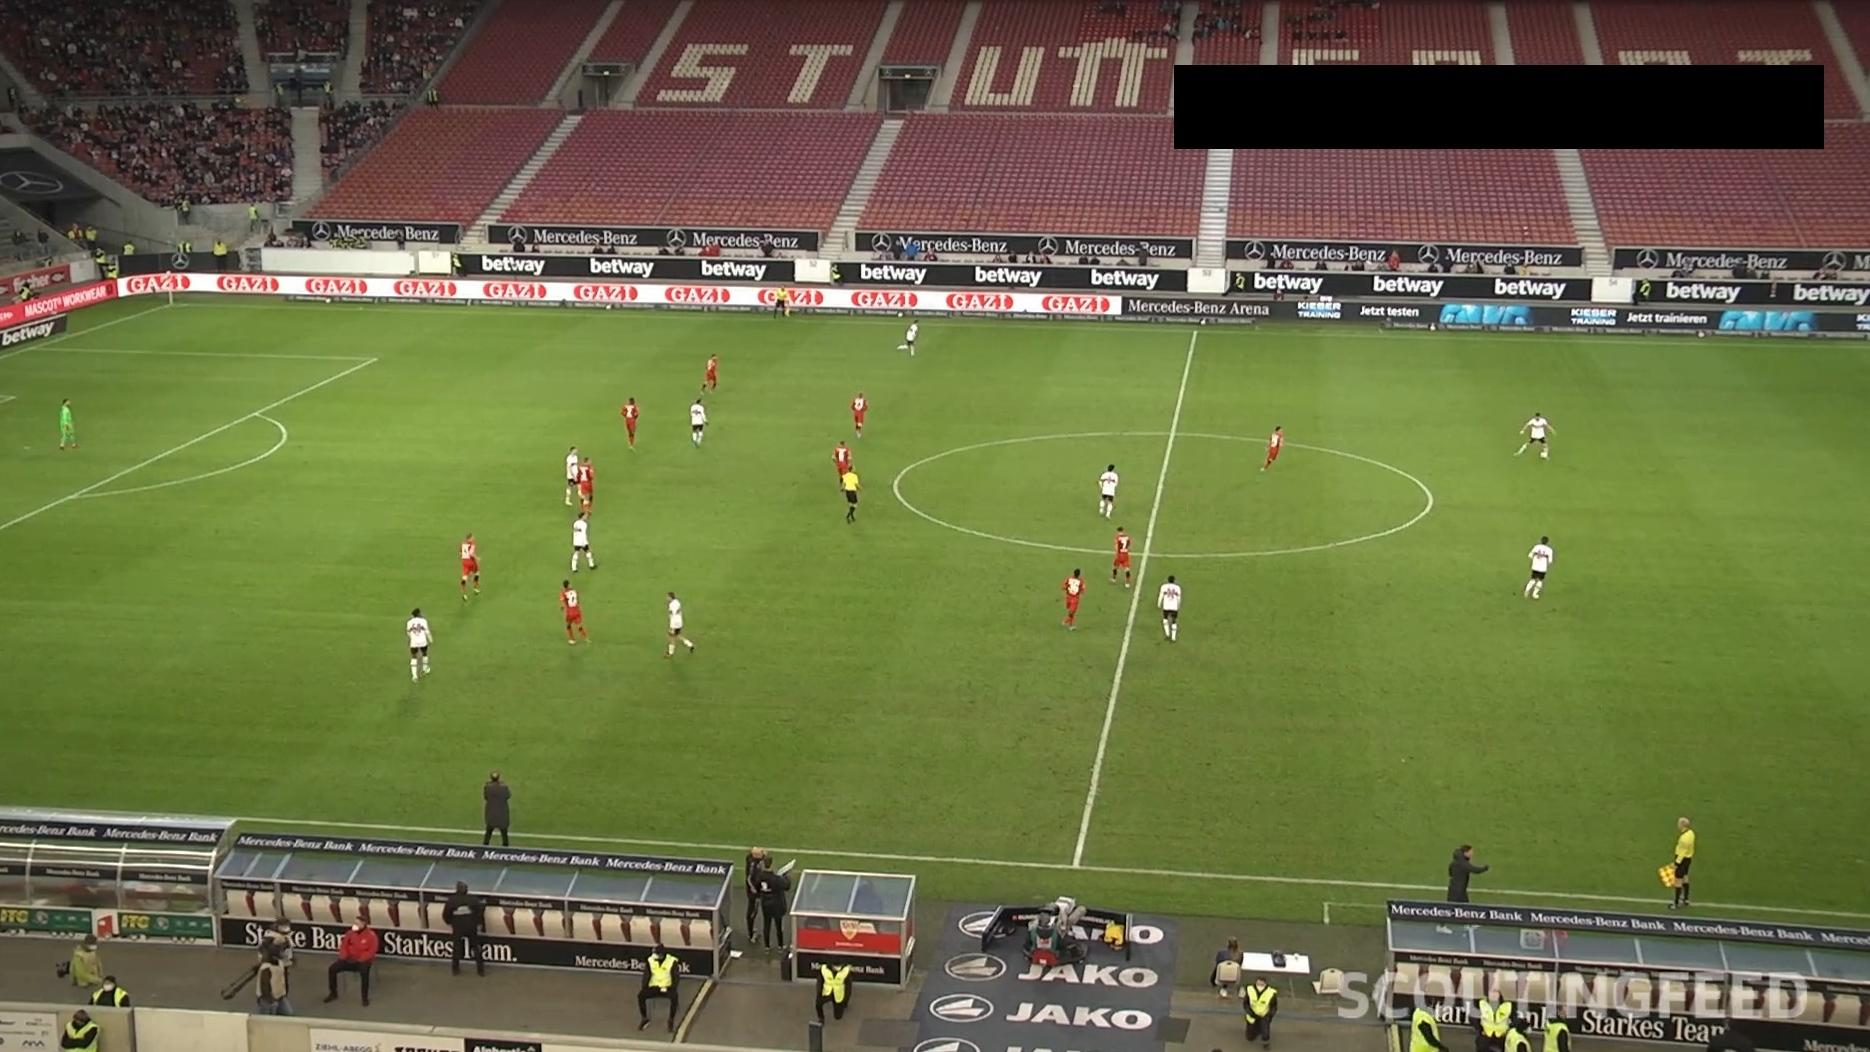ball: (1537, 448, 1549, 461)
